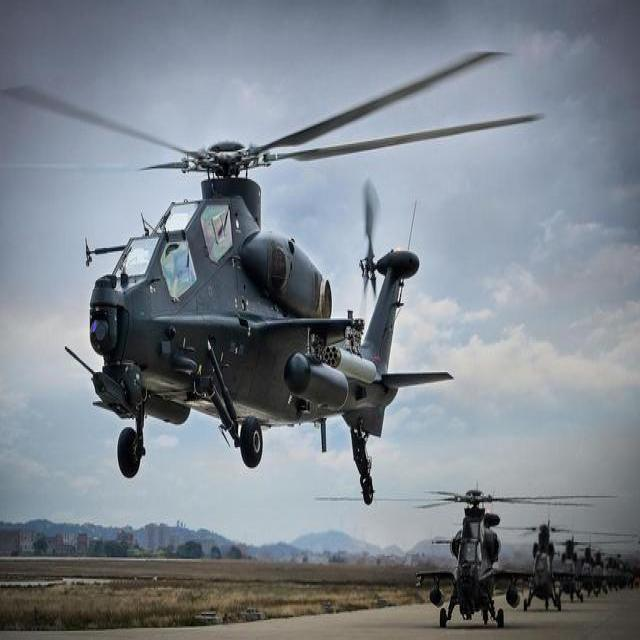MIL_HELO: (1, 49, 555, 451)
